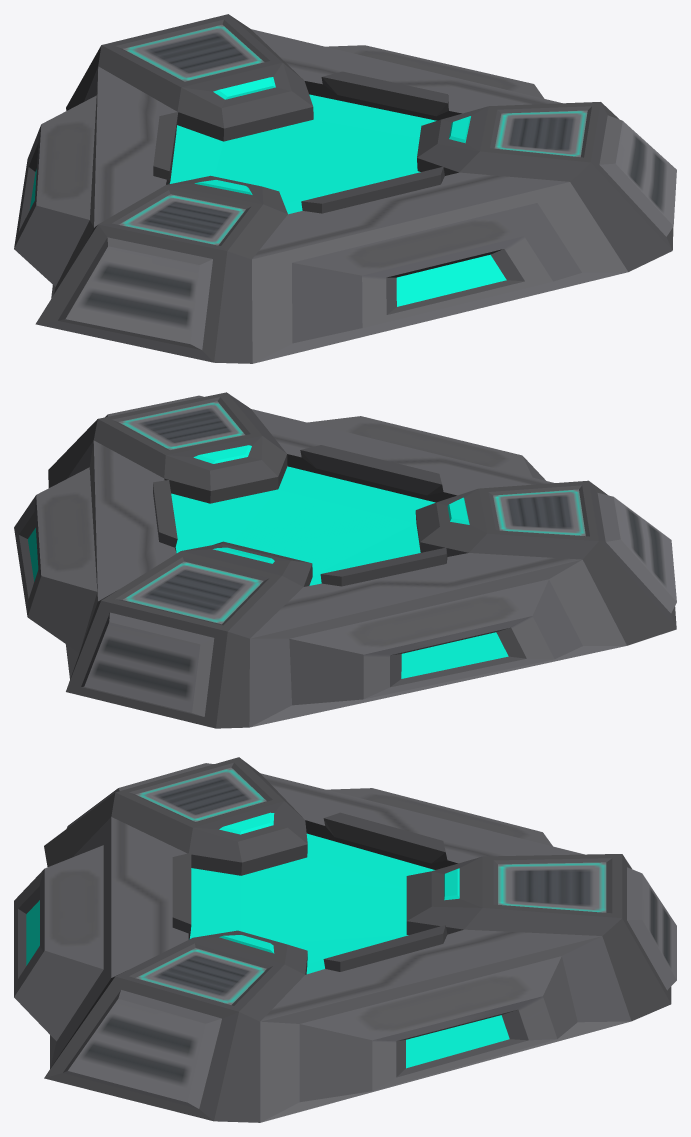
File: SM_Prop_Manholes_06.fbx
3 renders of one model, top to bottom at view 1: azimuth 30°, elevation 25°; view 2: azimuth 150°, elevation 25°; view 3: azimuth 270°, elevation 25°, orthographic. The views are drawn at different scales.
Visible parts, largest first — view 1: SM_Prop_Manholes_06; view 2: SM_Prop_Manholes_06; view 3: SM_Prop_Manholes_06.
Part boxes in pixels (x1=…): SM_Prop_Manholes_06: x1=14, y1=14, x2=676, y2=363; SM_Prop_Manholes_06: x1=14, y1=392, x2=676, y2=728; SM_Prop_Manholes_06: x1=14, y1=757, x2=676, y2=1122.
Bounding box in the file's own units: 148 × 20.33 × 129.
